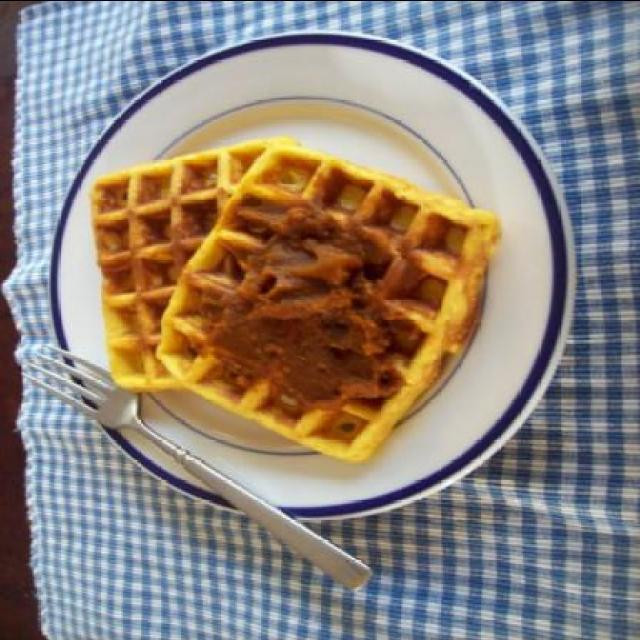Waffle: (153, 146, 499, 463), (86, 137, 300, 394)
